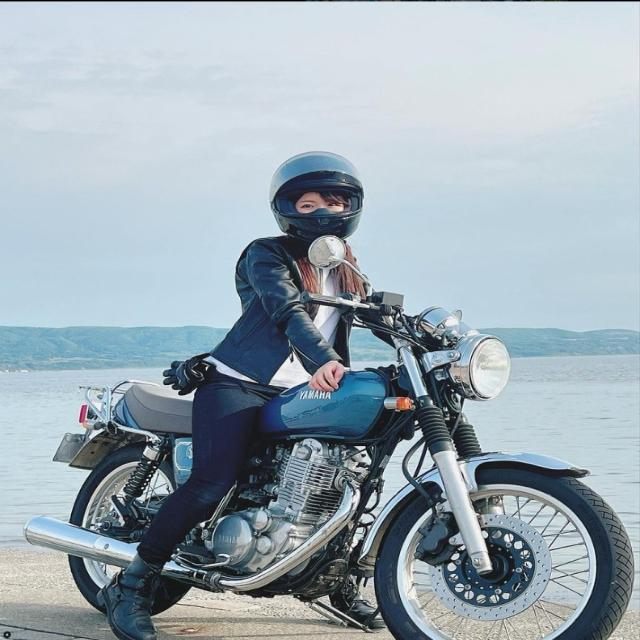helmet: (262, 147, 369, 246)
